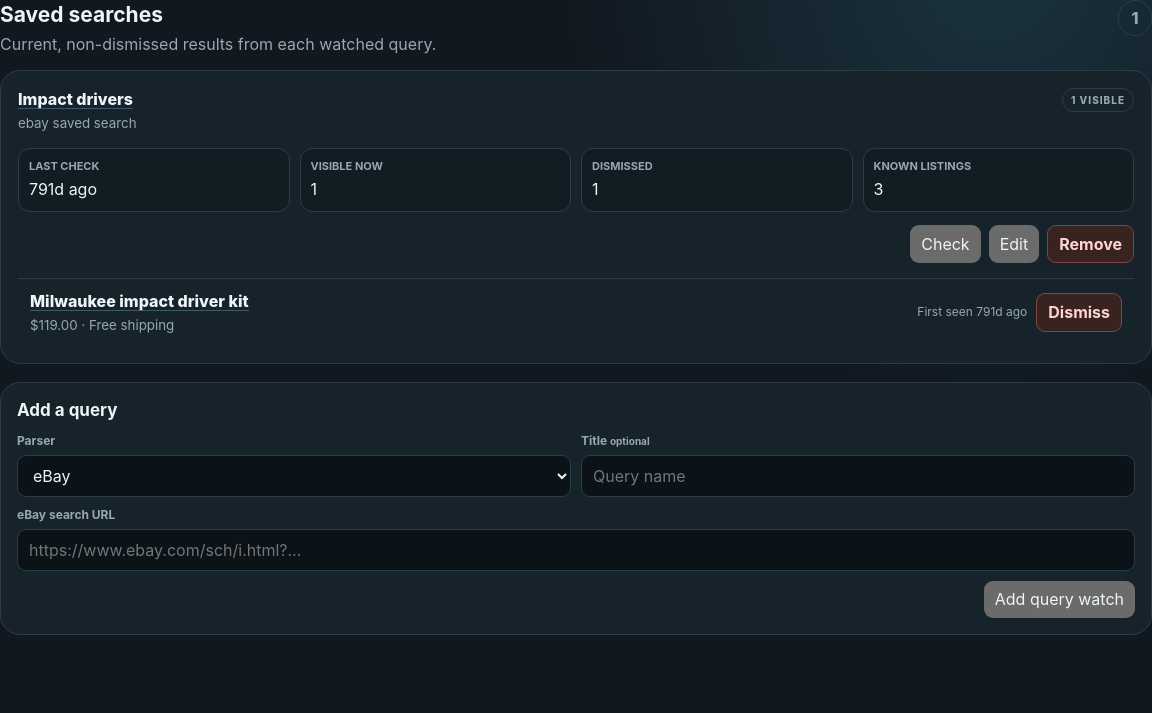
Scenario: saved search editor › retains failed edits with an error message, and cancel makes no further request
The image size is (1152, 713).
Click the button "Edit".
click(1014, 244)  # box x1=989 y1=225 x2=1039 y2=263
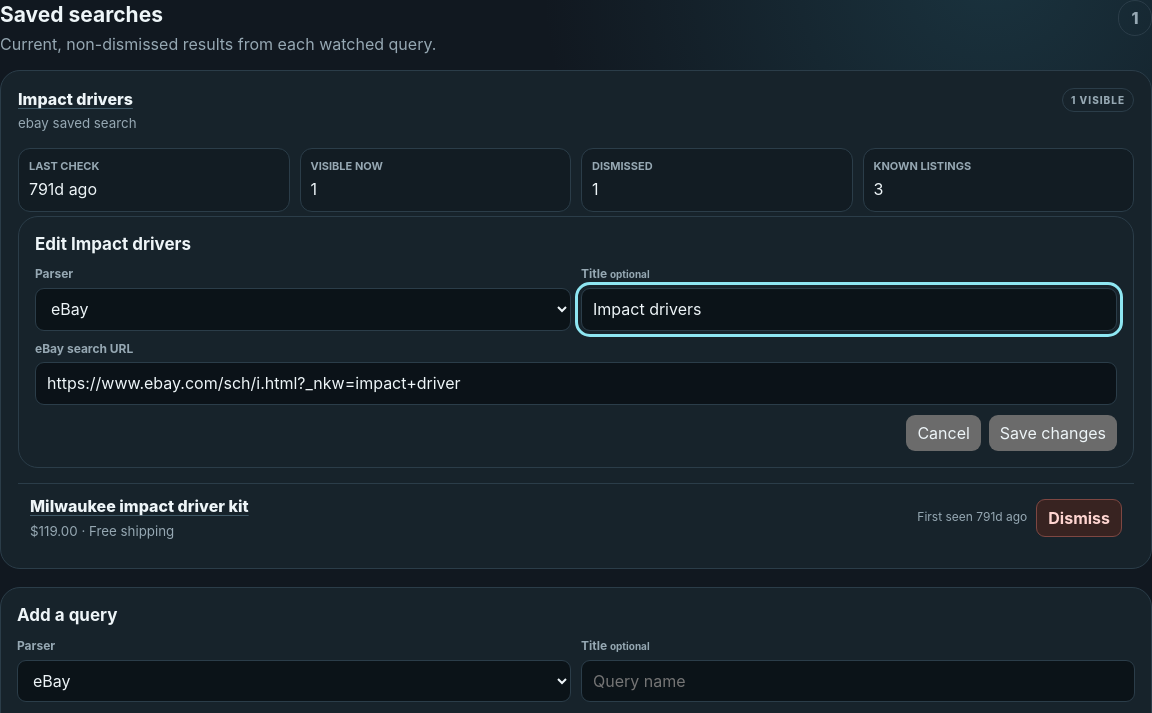
Replace the text in the field labelled "Title optional" below "Visible now" with "Keep this draft" at (849, 309), box x1=581 y1=288 x2=1117 y2=331
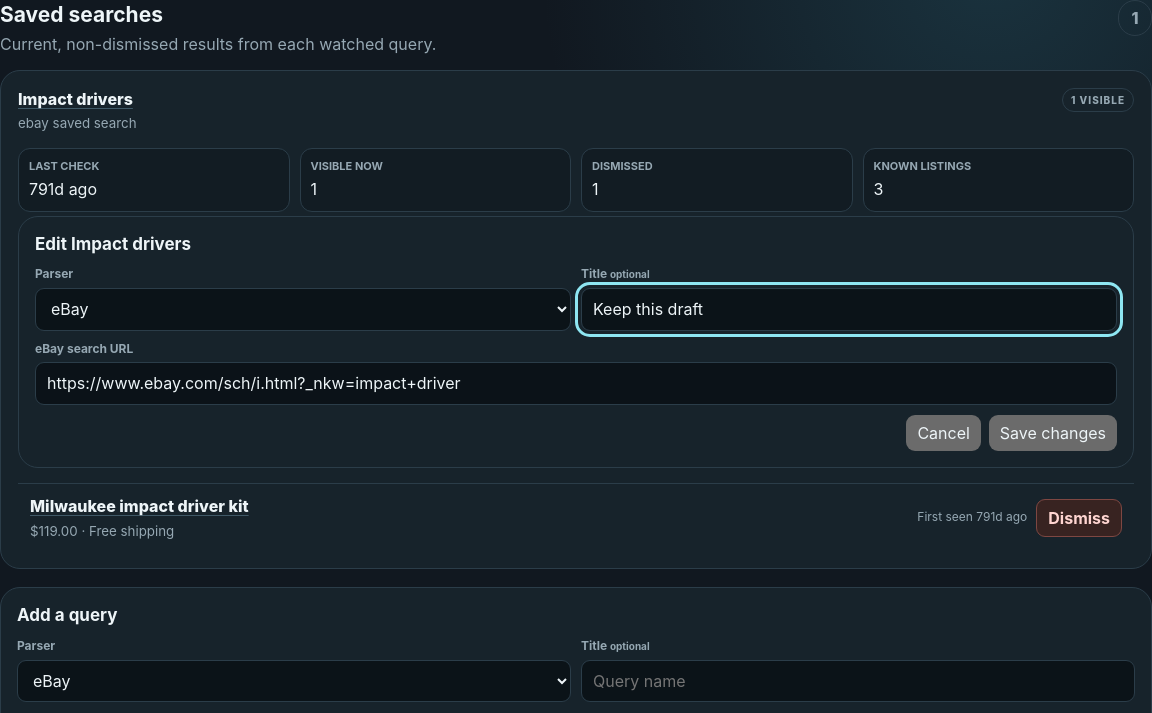
Click the button "Save changes".
click(1053, 433)  # box x1=989 y1=415 x2=1117 y2=451
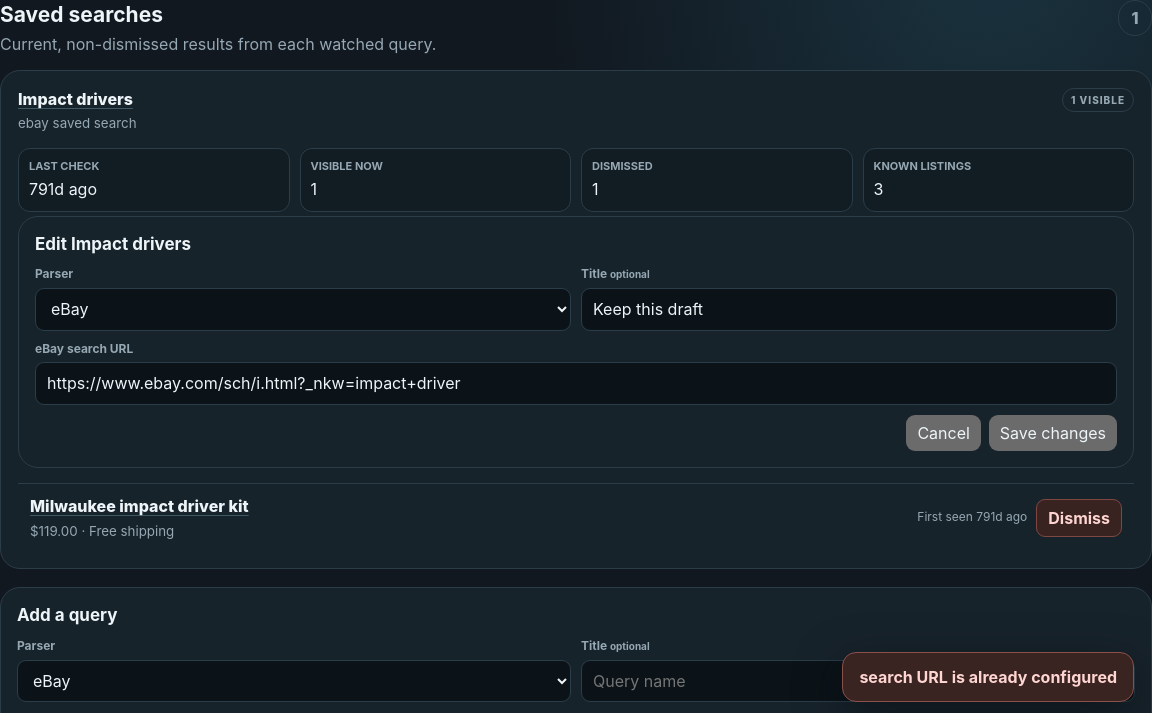
Check: the text "search URL is already configured" is shown, box x1=842 y1=652 x2=1134 y2=702
Click the button "Cancel".
click(944, 433)  # box x1=906 y1=415 x2=981 y2=451
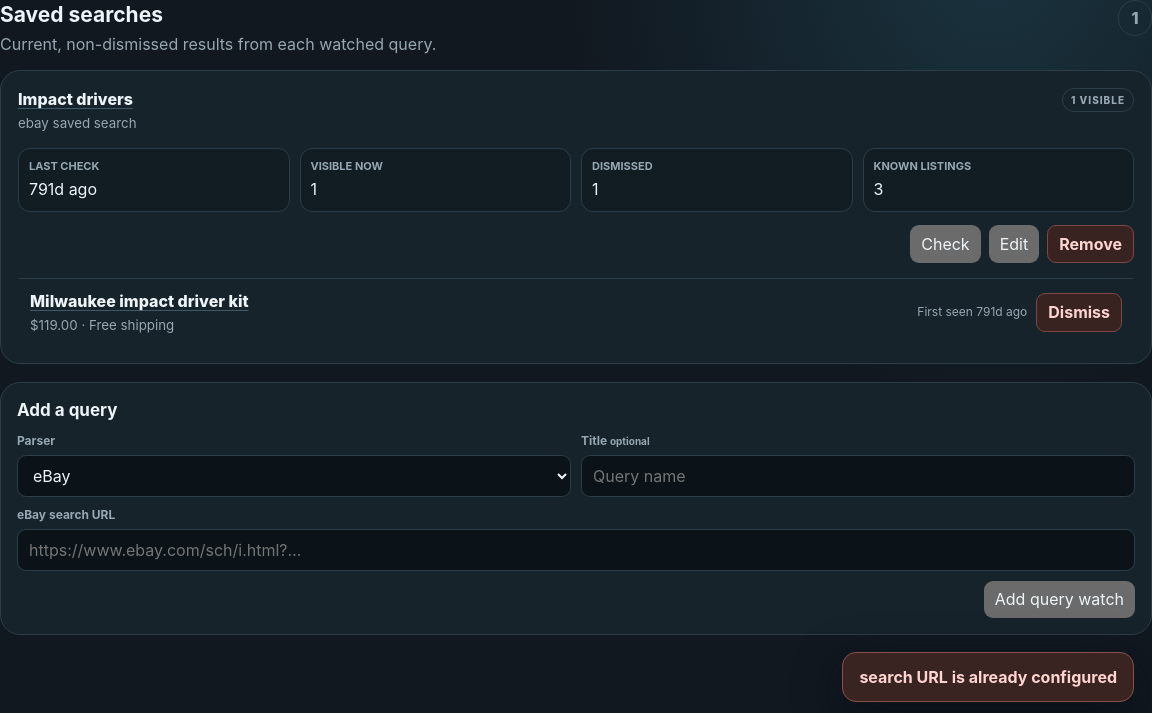
Check: the heading "Edit Impact drivers" is gone
Click the button "Edit".
click(1014, 244)  # box x1=989 y1=225 x2=1039 y2=263
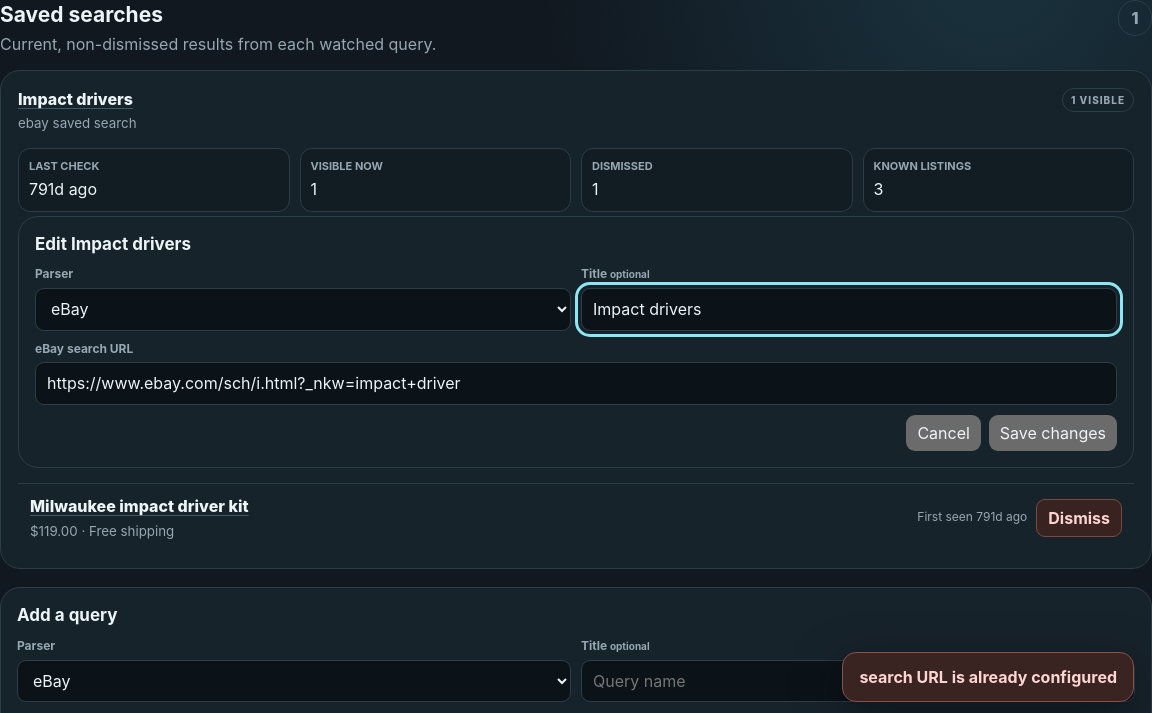
Check: the field labelled "Title optional" below "Visible now" holds "Impact drivers", box x1=581 y1=288 x2=1117 y2=331
